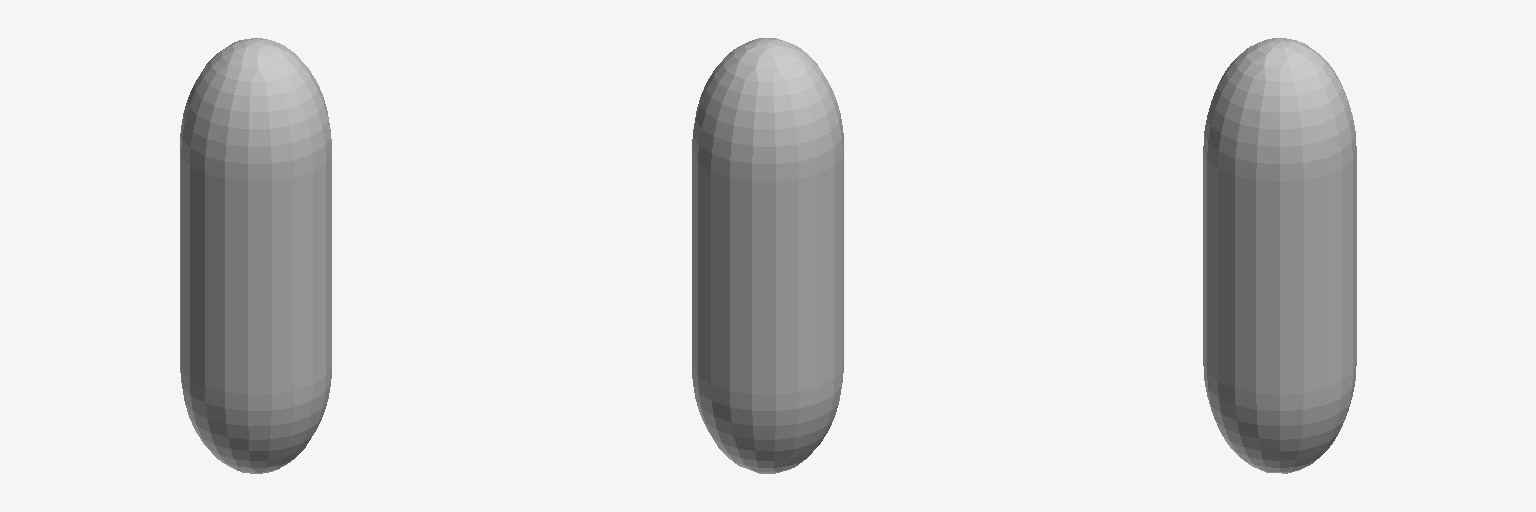
The model's file is englobing.obj.
The picture shows the model from 3 angles: view 1: azimuth 30°, elevation 25°; view 2: azimuth 150°, elevation 25°; view 3: azimuth 270°, elevation 25°; orthographic projection.
Parts seen in each view (by area): view 1: englobing; view 2: englobing; view 3: englobing.
Boxes of the visible parts, x1=… form: englobing: x1=180, y1=38, x2=331, y2=473; englobing: x1=692, y1=38, x2=843, y2=473; englobing: x1=1203, y1=38, x2=1356, y2=473.
Bounding box in the file's own units: 1.02 × 3.12 × 1.02.